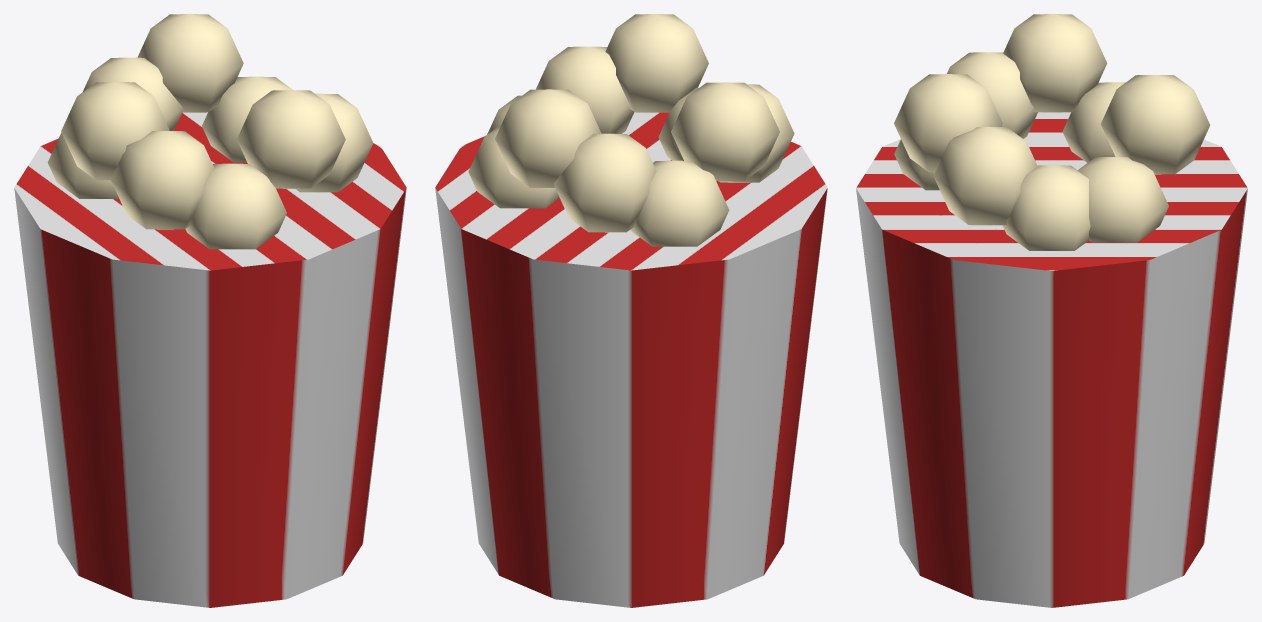
File: popcorn_bucket.glb
3 renders of one model, left to right at view 1: azimuth 30°, elevation 25°; view 2: azimuth 150°, elevation 25°; view 3: azimuth 270°, elevation 25°, orthographic.
Parts seen in each view (by area): view 1: popcorn_bucket; view 2: popcorn_bucket; view 3: popcorn_bucket.
Boxes of the visible parts, x1,y1,x2,y2 form: popcorn_bucket: (14, 14, 406, 607); popcorn_bucket: (435, 14, 827, 607); popcorn_bucket: (856, 14, 1247, 607).
Size of the model in its own units: 0.18 by 0.245 by 0.18.
Materials: 2 (1 with a texture image).
